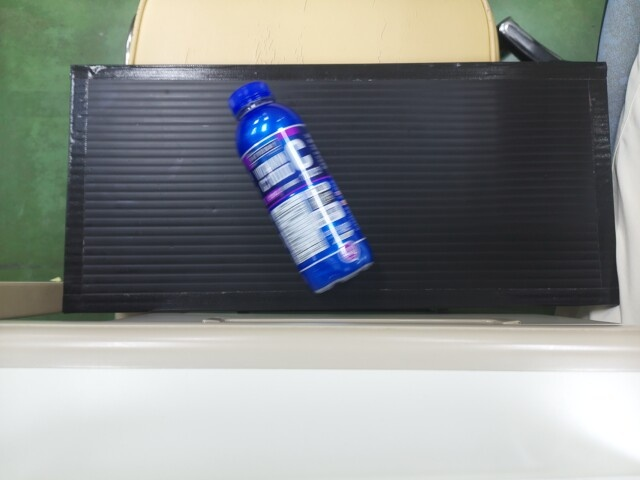plastic_bottle: (223, 74, 377, 289)
